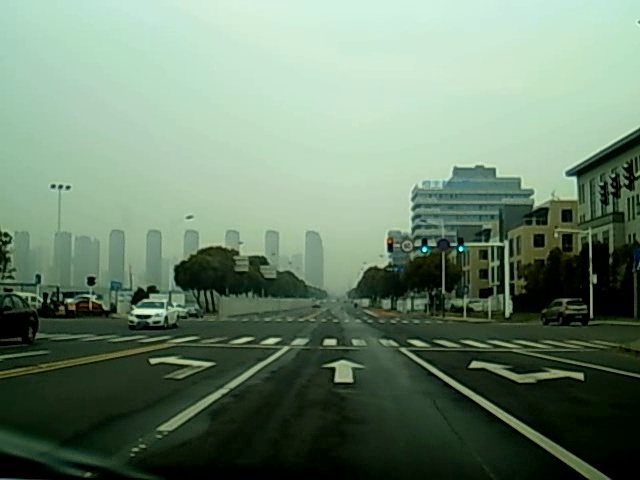Traffic_Light_go: (456, 239, 465, 257), (421, 239, 430, 256)
Traffic_Light_stop: (385, 238, 393, 255)
